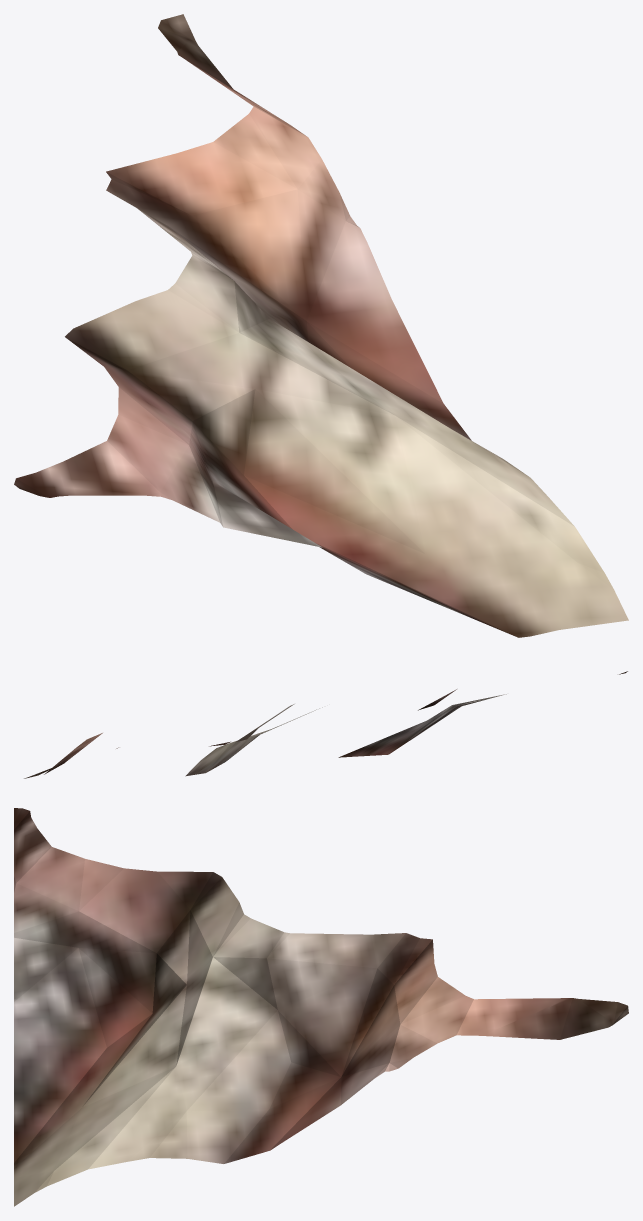
3 views of the same model, one above another, from view 1: azimuth 30°, elevation 25°; view 2: azimuth 150°, elevation 25°; view 3: azimuth 270°, elevation 25° (orthographic). The views are drawn at different scales.
Bounding box in the file's own units: 0.3917 × 0.1721 × 0.4959.
Materials: 1 (1 with a texture image).
